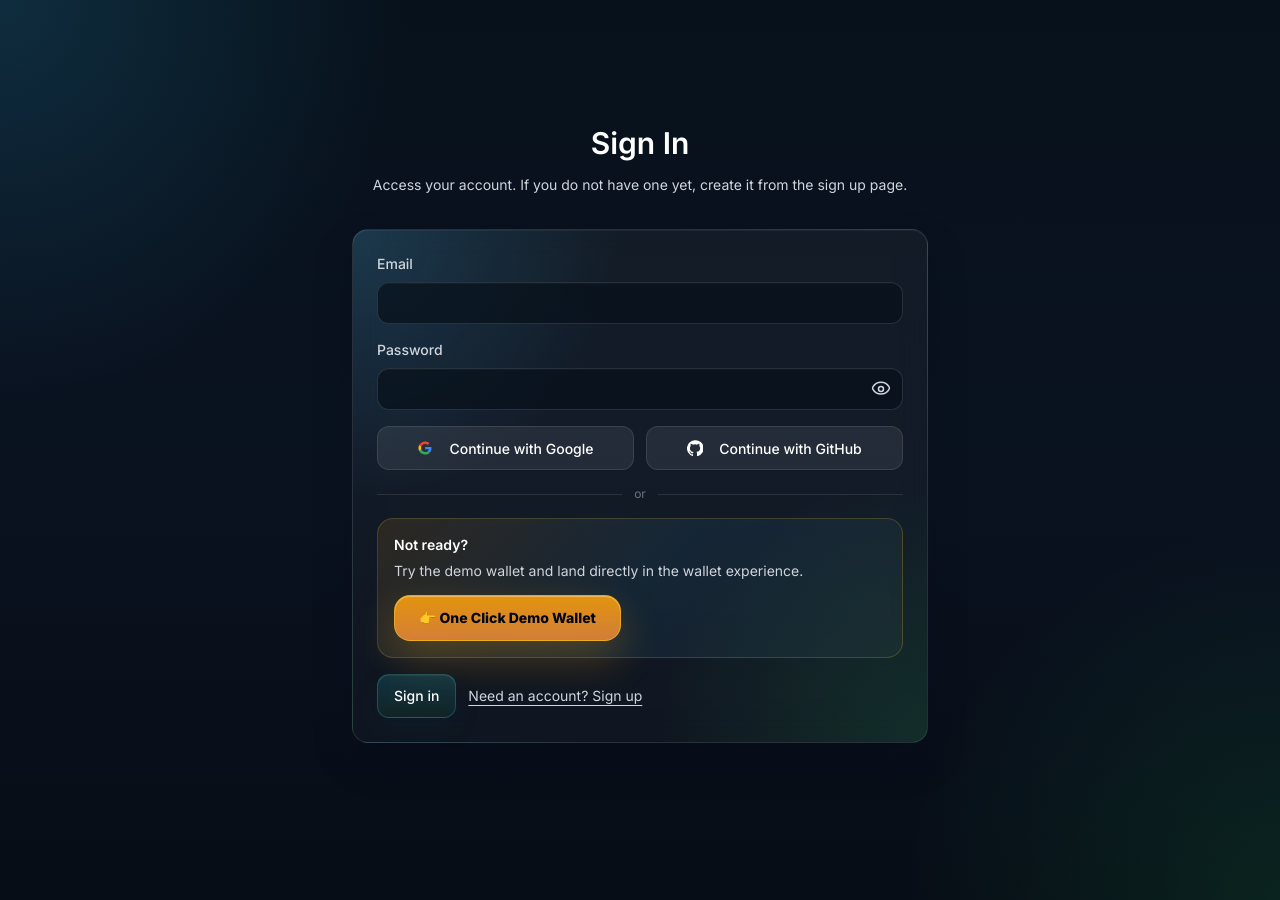
Test: SignInPage (functional) › maps invalid credential errors to a friendly message
This screenshot has width=1280, height=900.
Type "user@example.com" into the field labelled "Email". click: (640, 303)
box: [377,282,903,324]
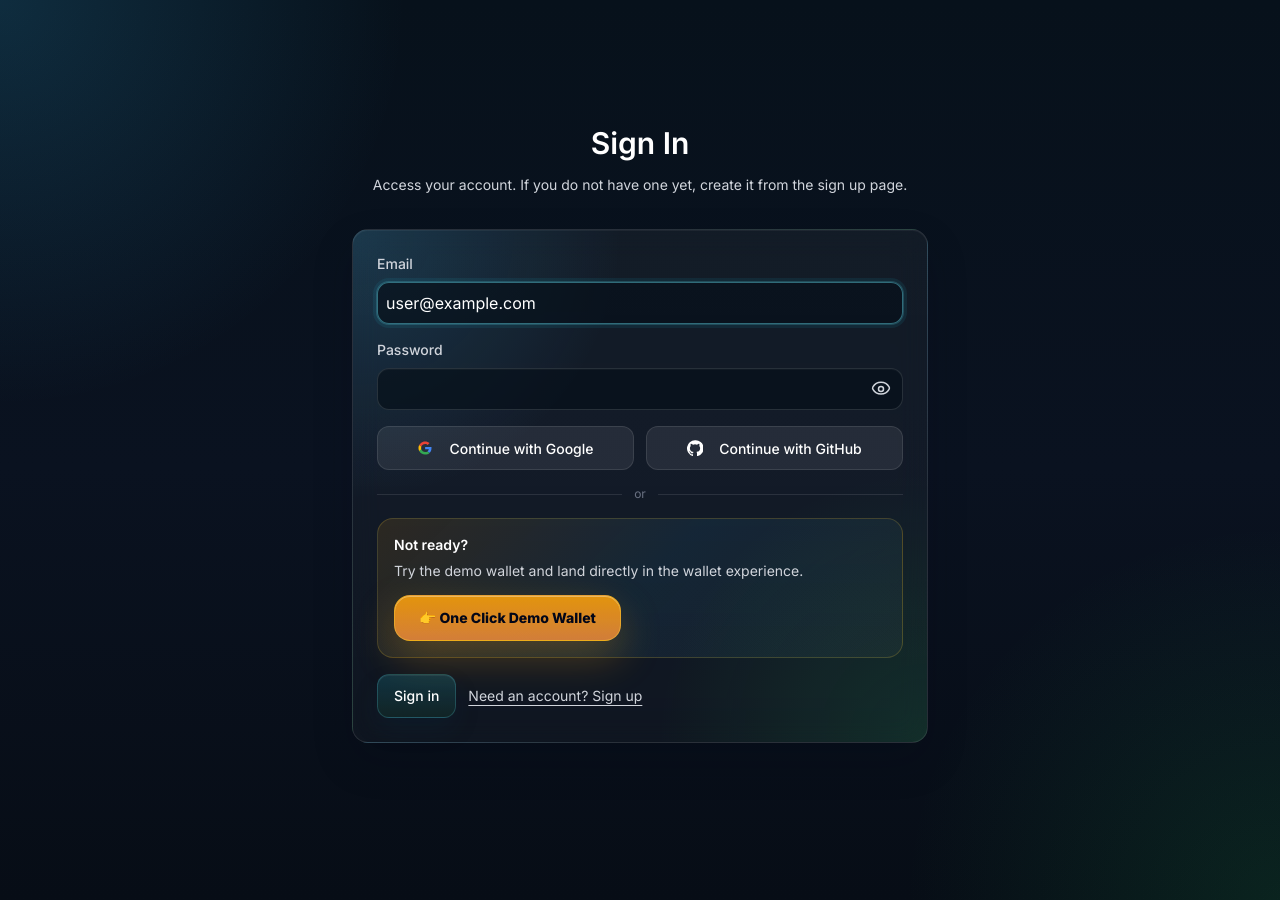
Type "secret123" into the password field labelled "Password". click: (640, 389)
box: [377,368,903,410]
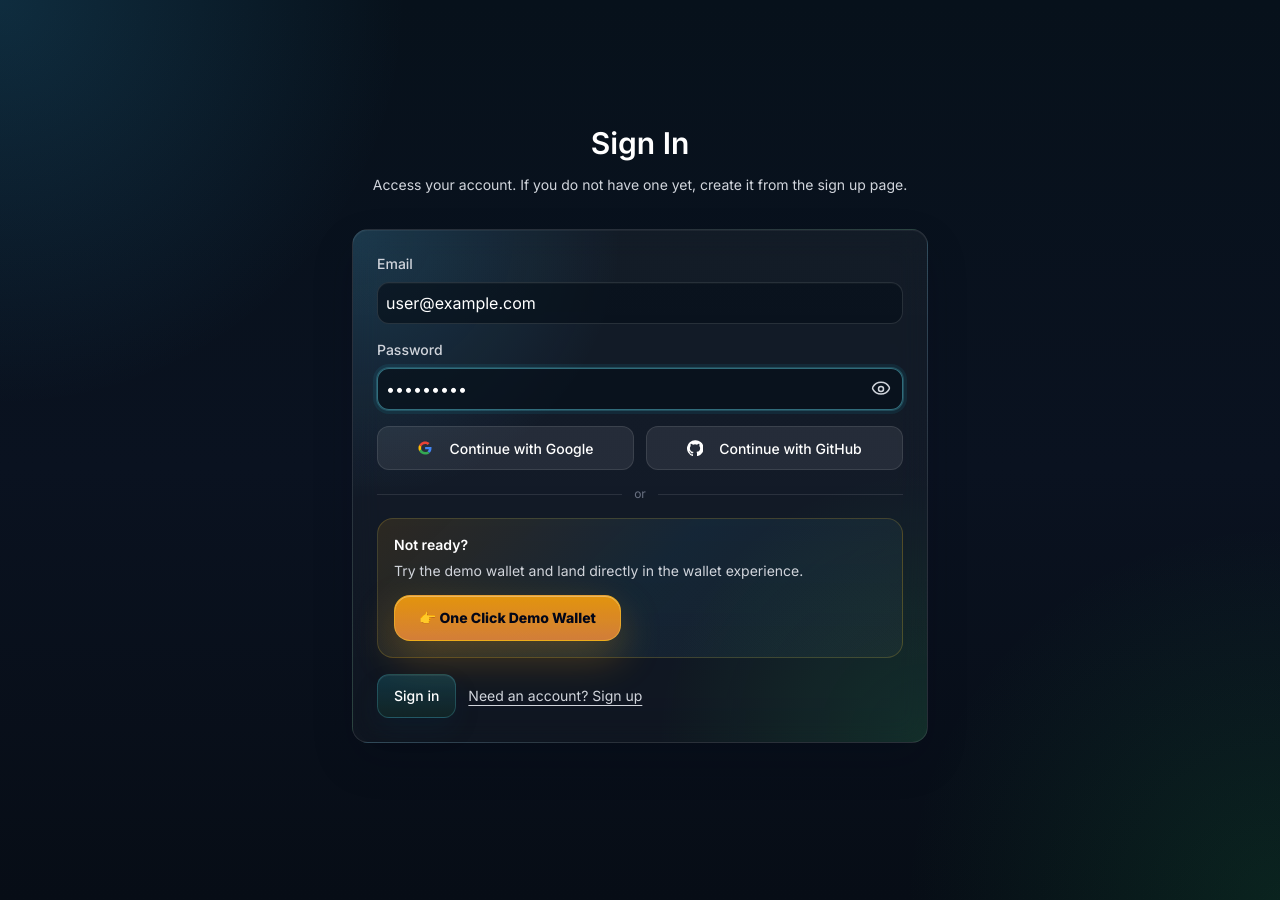
Click the button "Sign in". click: (417, 696)
box: [377,674,456,718]
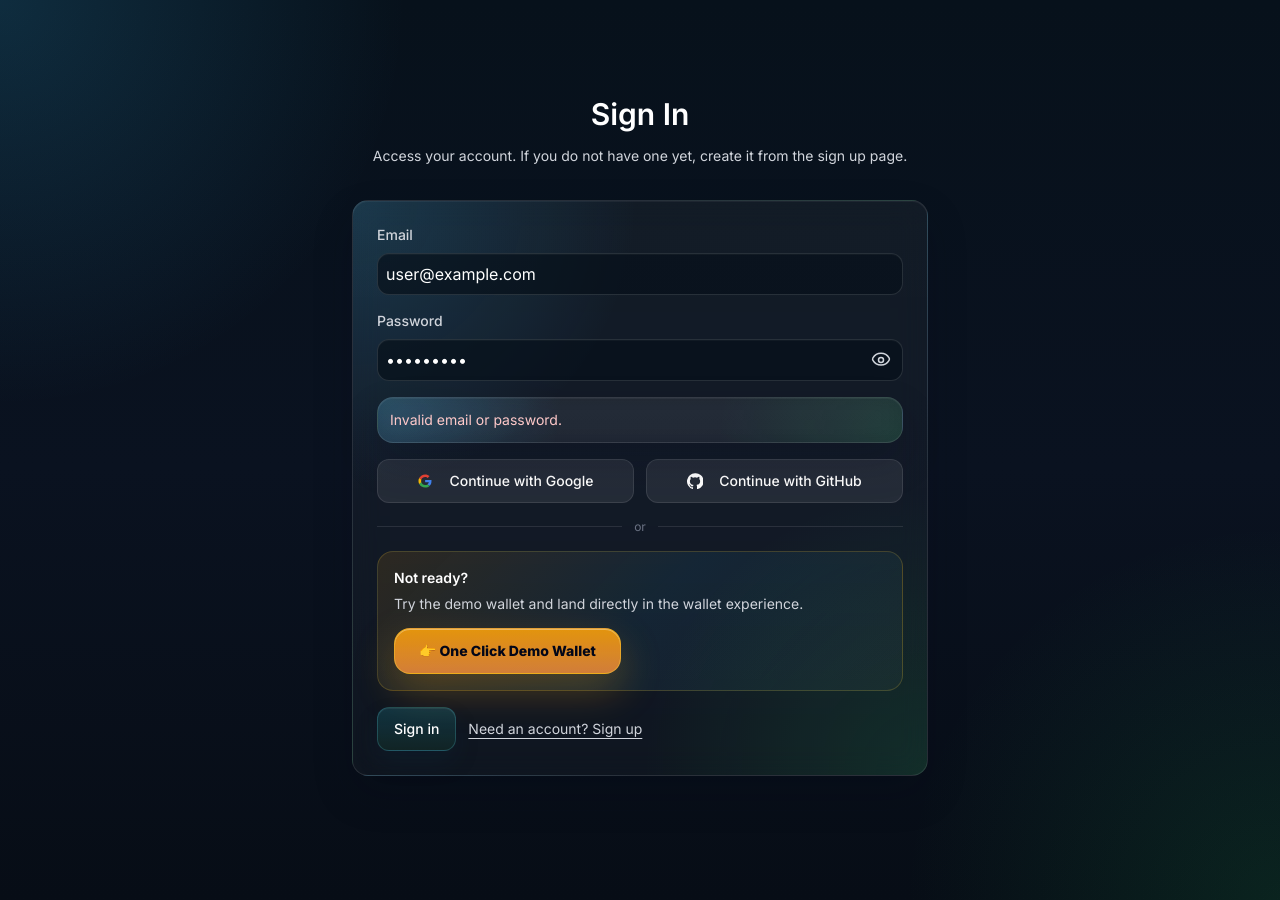
Result: the text "Invalid email or password." is shown at [377,397,903,443]
